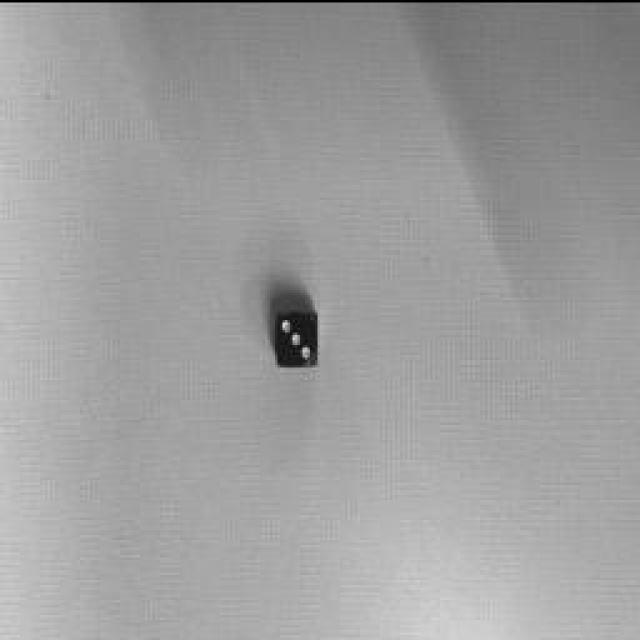dice_3: (275, 309, 317, 366)
